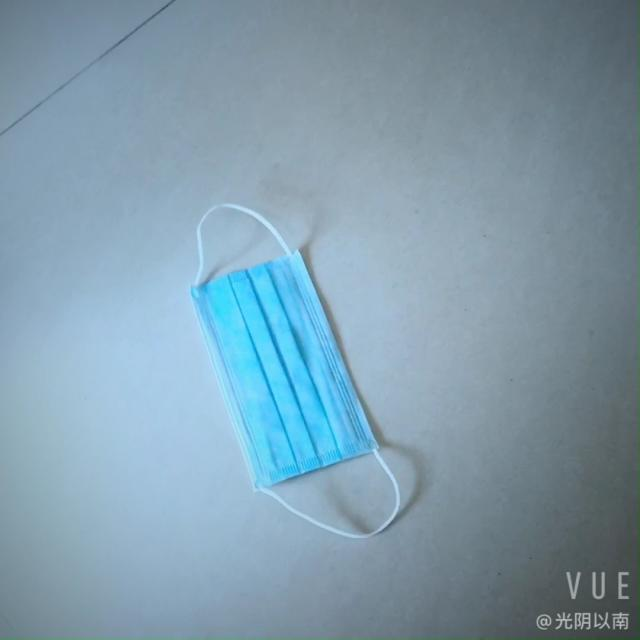face mask: (195, 240, 372, 490)
